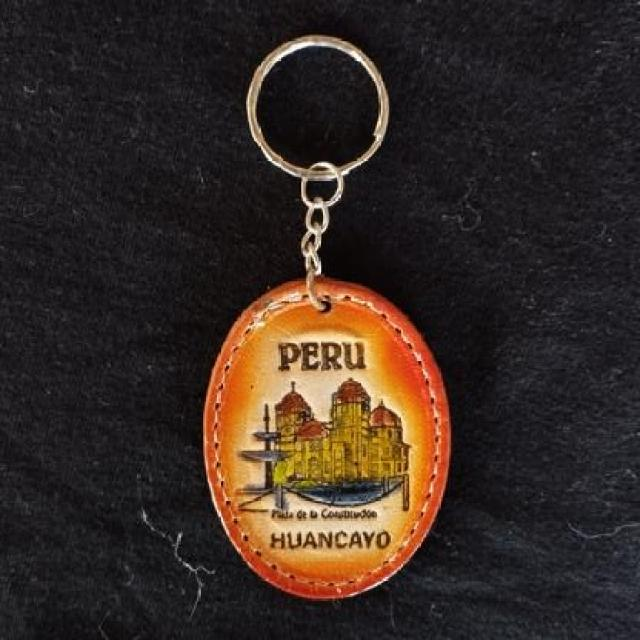Llavero: (202, 275, 452, 600)
